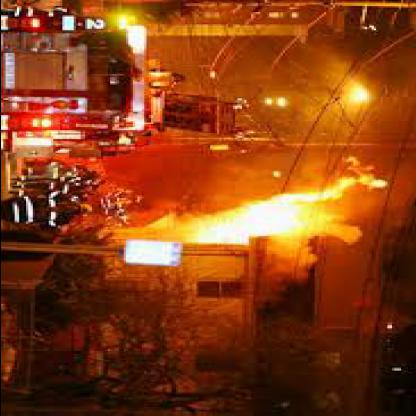Fire: (154, 166, 374, 250)
